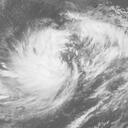cyclone: (16, 18, 115, 100)
